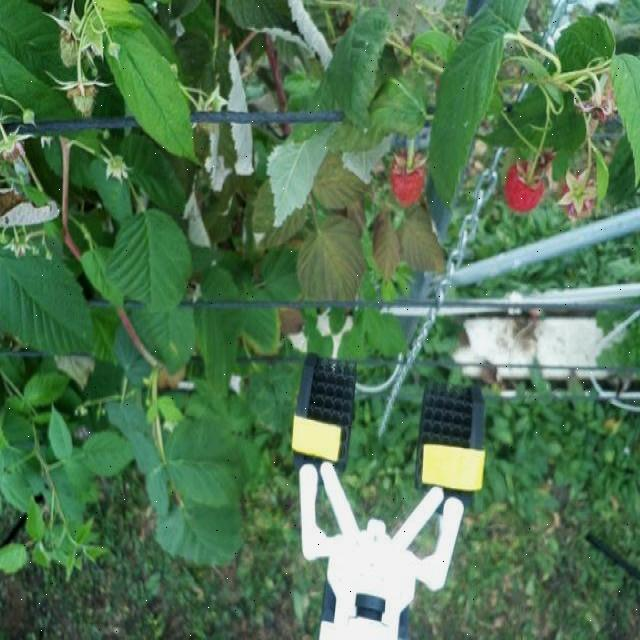Riped berries: (502, 156, 546, 215), (386, 147, 427, 208), (560, 168, 601, 220)
